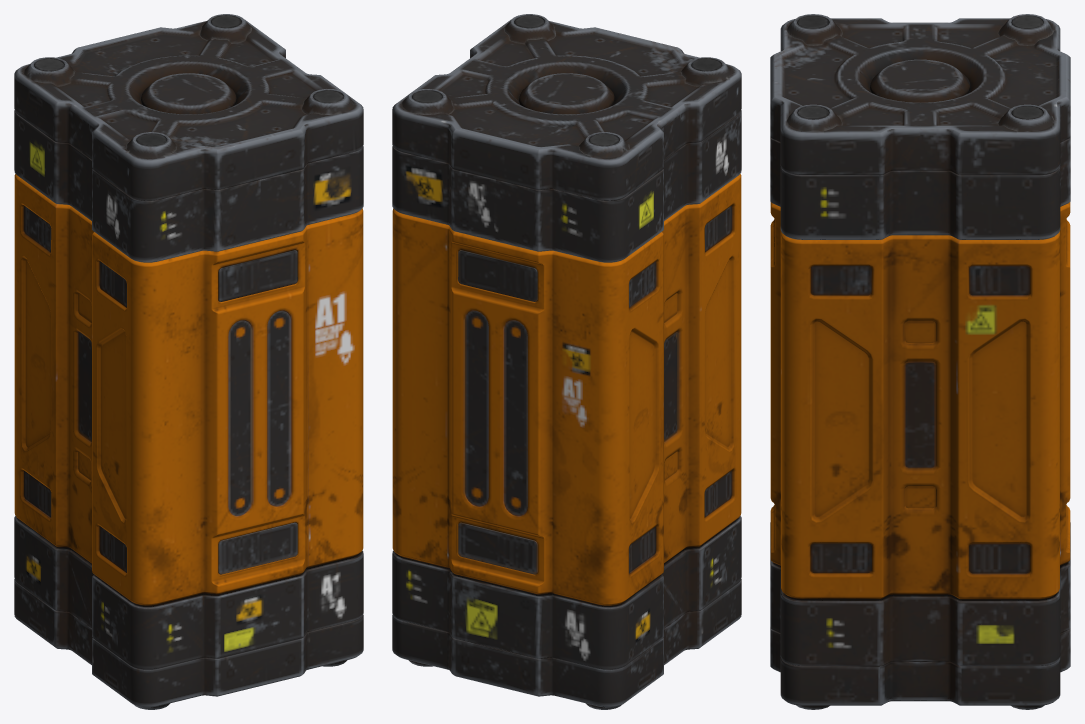
The model's file is SM_AmmunitionBoxes01_Closed.fbx.
3 renders of one model, left to right at view 1: azimuth 30°, elevation 25°; view 2: azimuth 150°, elevation 25°; view 3: azimuth 270°, elevation 25°, orthographic. The views are drawn at different scales.
Visible parts, largest first — view 1: SM_AmmunitionBoxes01_Closed_LOD0; view 2: SM_AmmunitionBoxes01_Closed_LOD0; view 3: SM_AmmunitionBoxes01_Closed_LOD0.
Part boxes in pixels (bbox=[...]): SM_AmmunitionBoxes01_Closed_LOD0: bbox=[14, 14, 363, 709]; SM_AmmunitionBoxes01_Closed_LOD0: bbox=[392, 14, 741, 709]; SM_AmmunitionBoxes01_Closed_LOD0: bbox=[770, 14, 1070, 709].
Size of the model in its own units: 42.33 by 45.44 by 98.45.
1 material, 1 textured.
